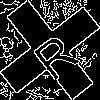R: (25, 25, 81, 83)
